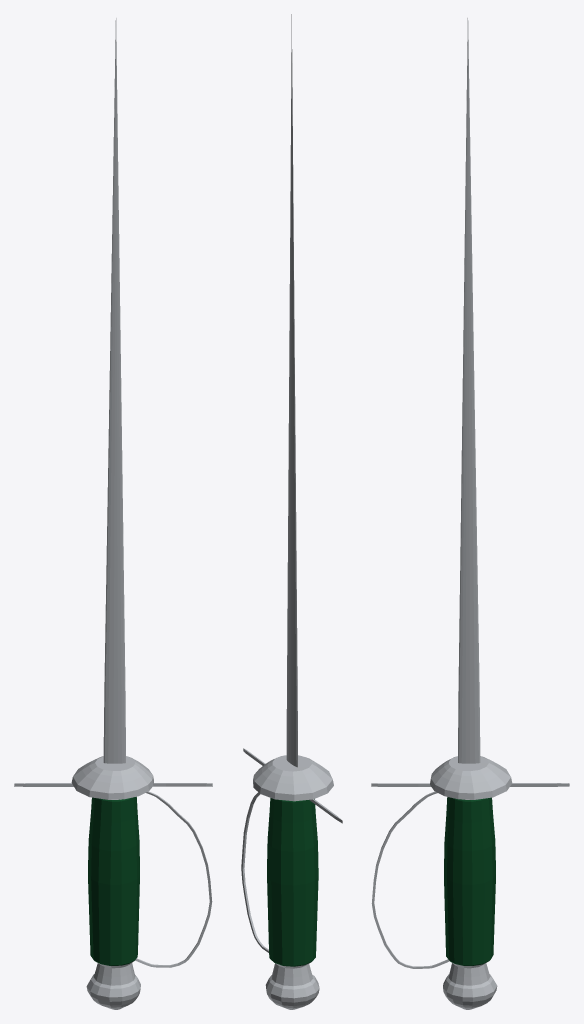
The model's file is Rapier.fbx.
The picture shows the model from 3 angles, left to right: view 1: azimuth 90°, elevation 25°; view 2: azimuth 210°, elevation 25°; view 3: azimuth 270°, elevation 25°; orthographic projection.
Parts seen in each view (by area): view 1: Blade; view 2: Blade; view 3: Blade.
Boxes of the visible parts, box(x1,y1,x2,y2) form: Blade: box(14, 18, 212, 1009); Blade: box(241, 14, 342, 1009); Blade: box(371, 18, 569, 1009).
Bounding box in the file's own units: 98.53 × 1344 × 244.
